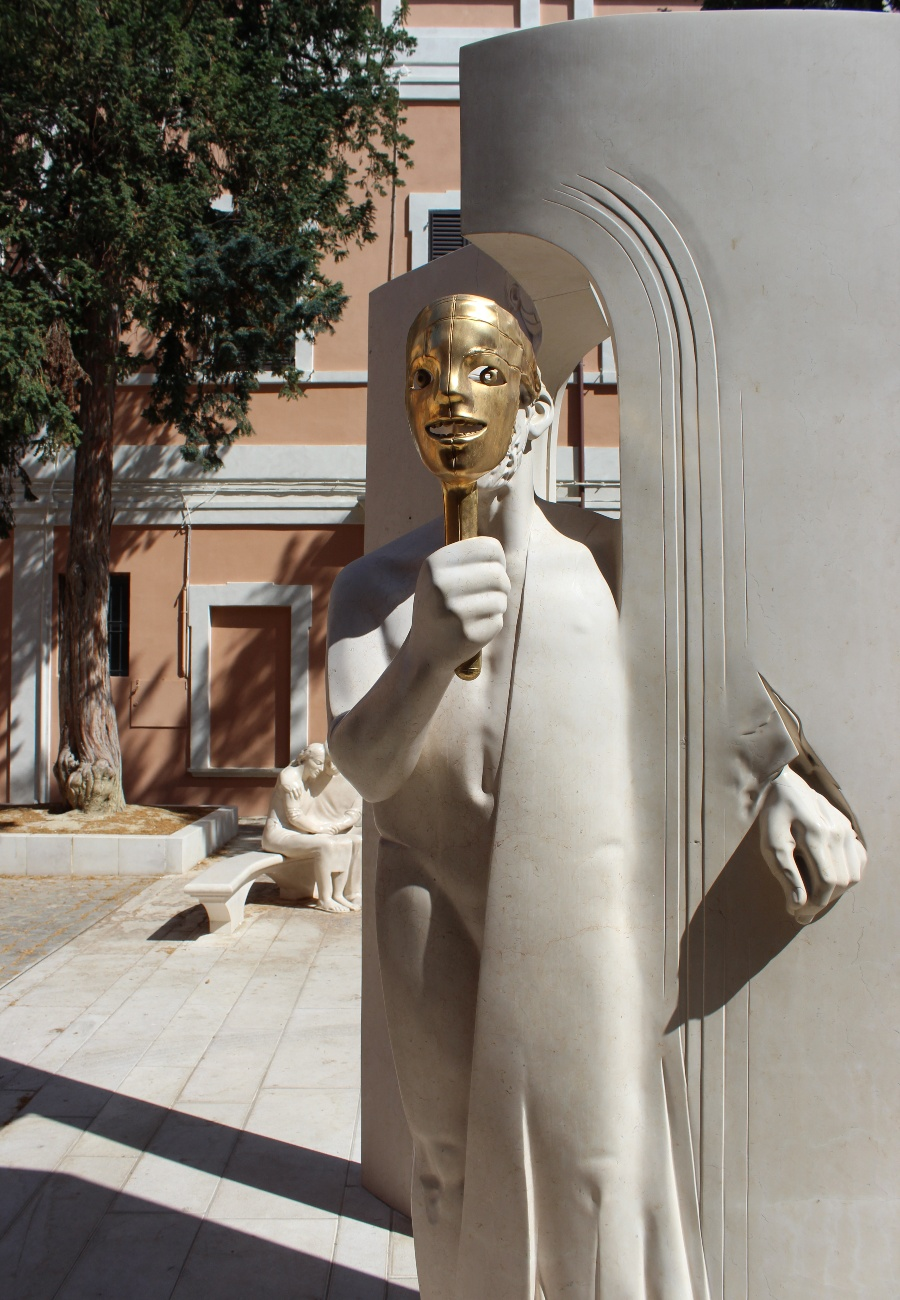Scultura della Memoria: (327, 286, 866, 1300)
